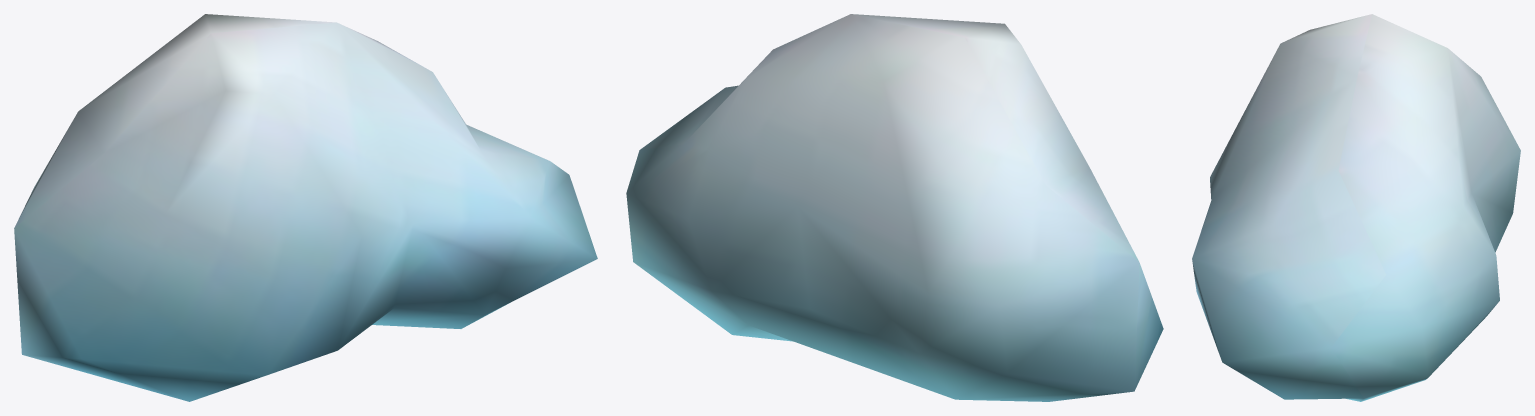
The picture shows the model from 3 angles, left to right: view 1: azimuth 30°, elevation 25°; view 2: azimuth 150°, elevation 25°; view 3: azimuth 270°, elevation 25°; orthographic projection. The views are drawn at different scales.
Parts seen in each view (by area): view 1: xuedui; view 2: xuedui; view 3: xuedui.
Boxes of the visible parts, x1,y1,x2,y2 form: xuedui: (14, 14, 597, 401); xuedui: (626, 14, 1163, 401); xuedui: (1192, 14, 1520, 401).
Size of the model in its own units: 19.39 by 11.76 by 11.83.
